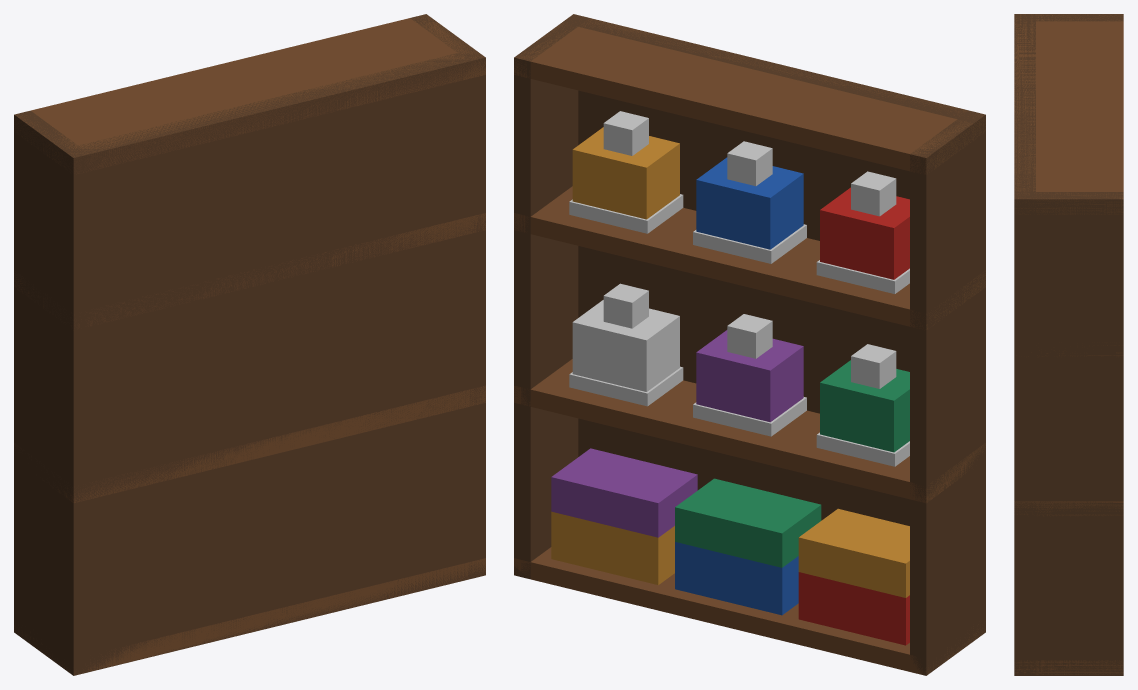
File: ntu-knit-shelf.glb
3 views of the same model, side by side, from view 1: azimuth 30°, elevation 25°; view 2: azimuth 150°, elevation 25°; view 3: azimuth 270°, elevation 25° (orthographic). The views are drawn at different scales.
Parts seen in each view (by area): view 1: box-prop; view 2: box-prop; view 3: box-prop.
Part boxes in pixels (box(x1,y1,x2,y2)): box-prop: box(14, 14, 485, 675); box-prop: box(514, 14, 985, 675); box-prop: box(1014, 14, 1123, 675).
Size of the model in its own units: 2 by 2.4 by 0.5.
